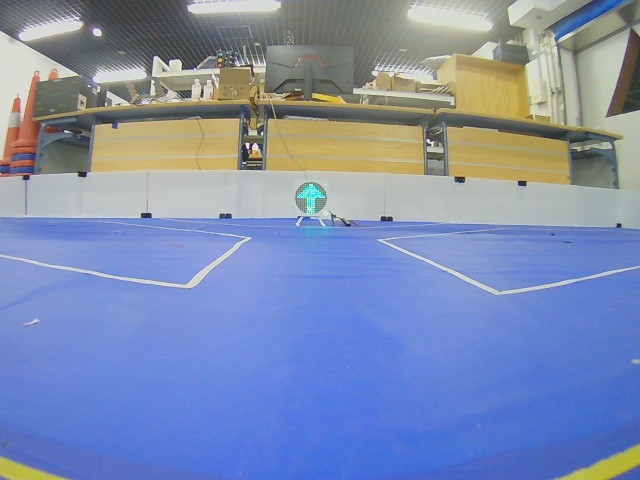straight_green: (295, 182, 327, 215)
